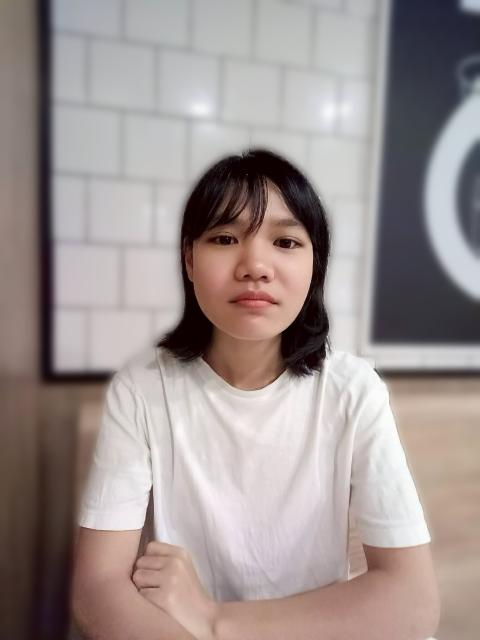fokus: (179, 149, 323, 345)
